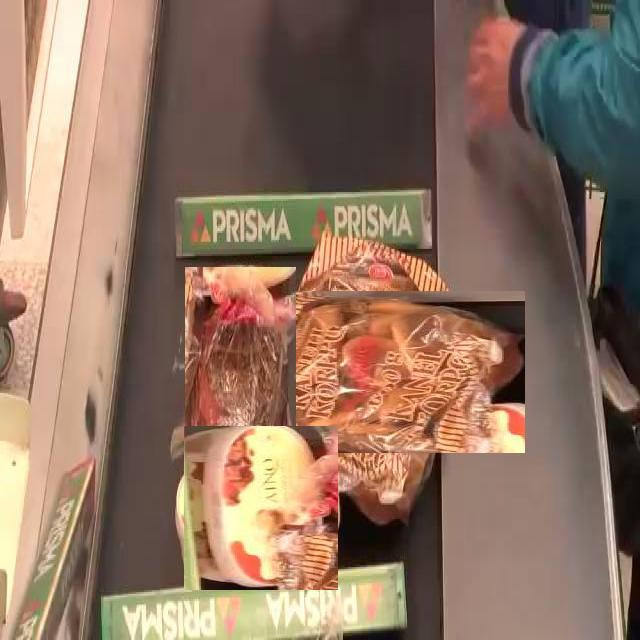food-box: (252, 253, 488, 490), (181, 429, 341, 588), (184, 266, 296, 476)
